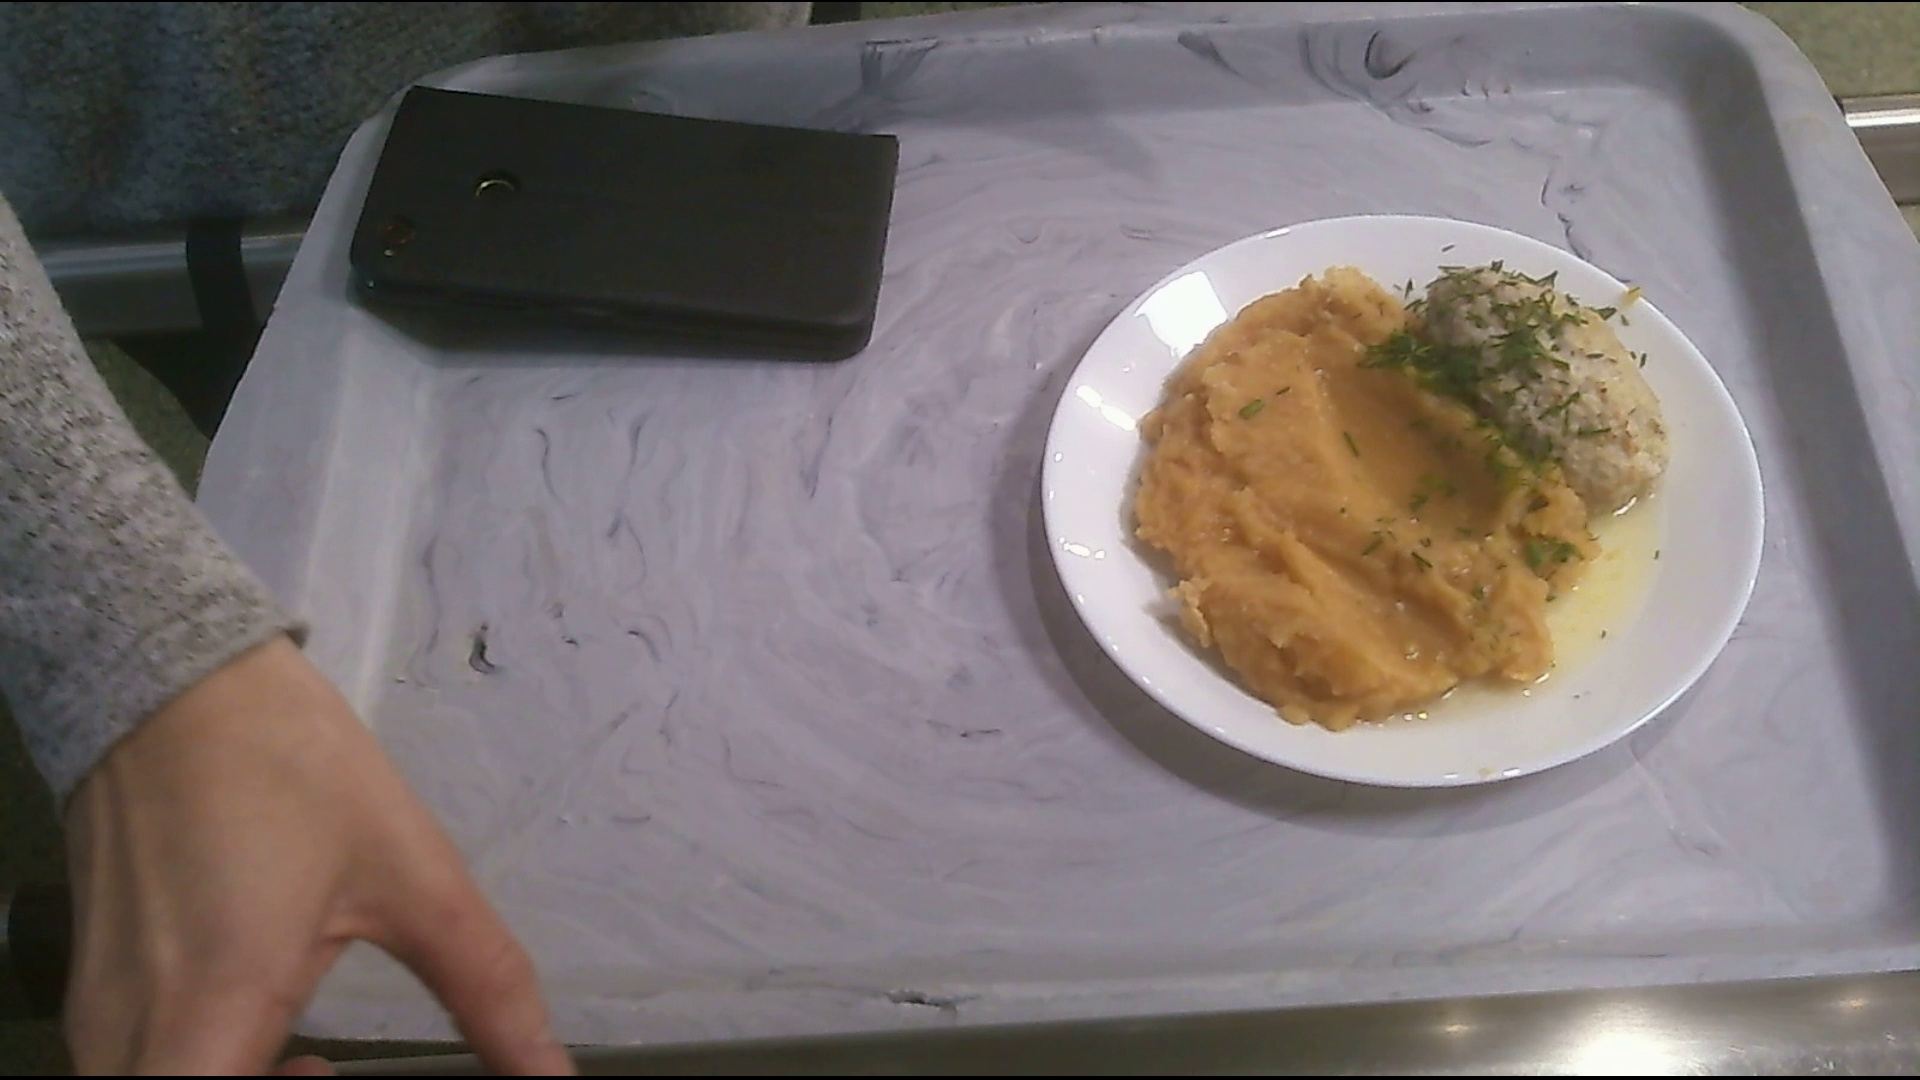other: (375, 80, 902, 365)
plate: (1043, 212, 1767, 802)
